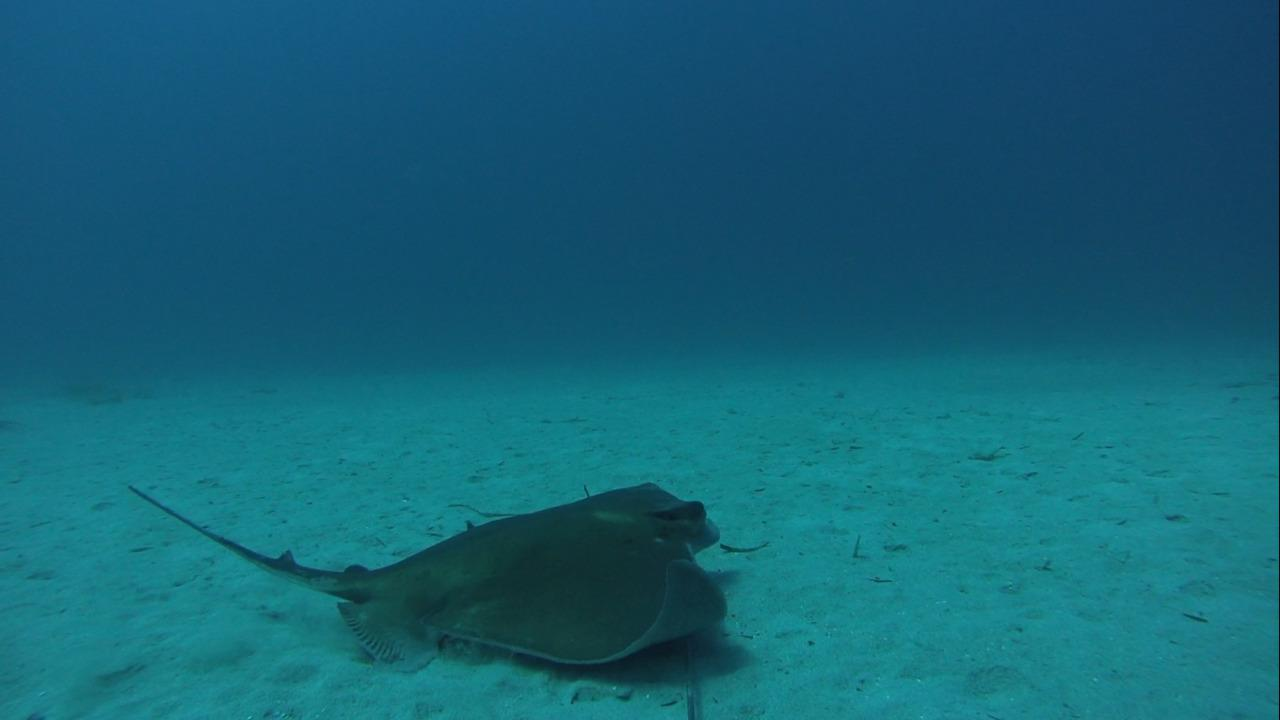myliobatis: (116, 477, 738, 689)
